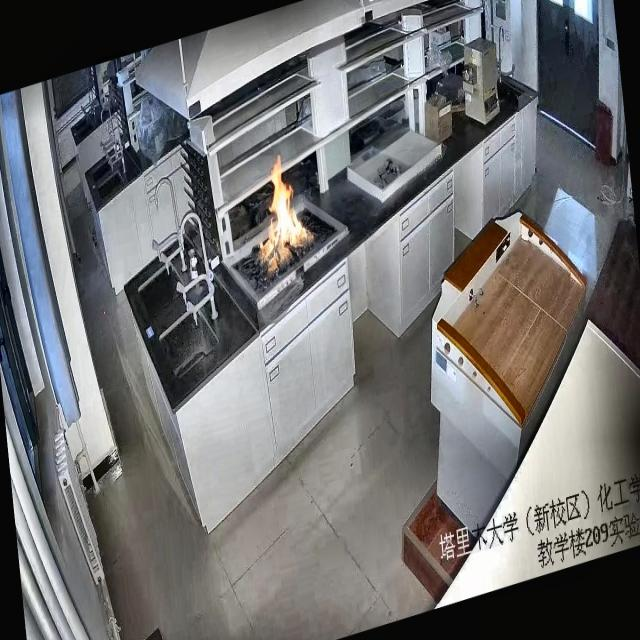fire: (250, 147, 328, 306)
